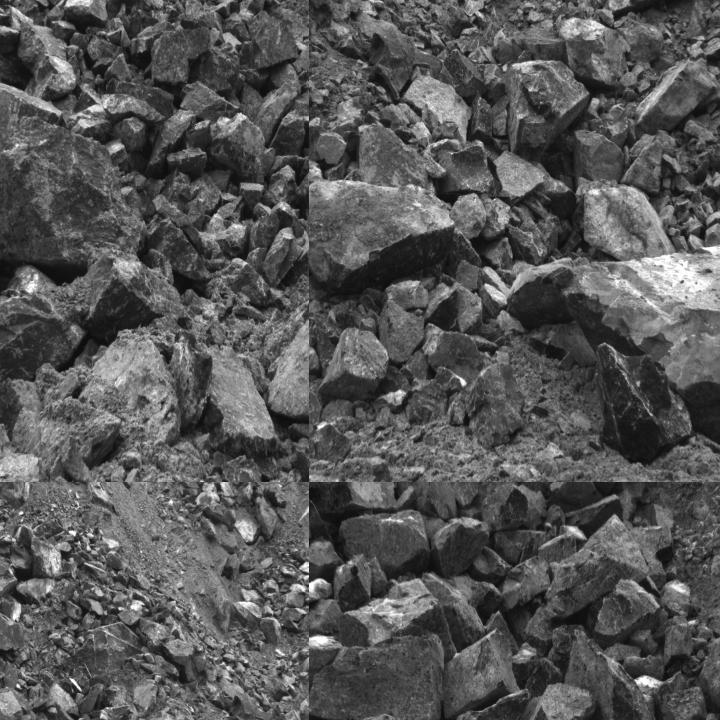stone: (562, 248, 719, 436), (0, 263, 85, 420), (309, 633, 446, 719), (545, 516, 647, 628), (339, 578, 458, 663), (64, 254, 182, 337), (206, 341, 276, 454), (442, 630, 520, 719), (339, 508, 431, 580), (459, 362, 525, 447), (559, 15, 630, 89), (586, 579, 660, 649), (17, 21, 80, 99), (206, 113, 275, 183), (401, 75, 472, 141), (143, 216, 213, 281), (168, 329, 211, 432), (68, 622, 144, 678), (150, 27, 219, 85), (424, 518, 489, 578), (369, 21, 416, 102), (146, 109, 197, 178), (0, 79, 24, 221), (407, 368, 467, 424), (495, 686, 595, 719), (500, 556, 550, 615), (248, 12, 298, 70), (254, 82, 298, 143), (180, 81, 242, 124), (194, 39, 243, 93), (416, 482, 479, 522), (449, 689, 529, 719), (481, 485, 527, 534), (269, 101, 308, 157), (0, 585, 32, 650), (441, 50, 486, 96), (587, 102, 629, 150), (309, 422, 352, 463), (331, 96, 363, 151), (700, 625, 719, 715), (101, 94, 166, 120), (659, 685, 707, 719), (130, 20, 176, 55), (507, 224, 547, 264), (454, 282, 484, 334), (619, 25, 661, 60), (64, 0, 109, 32), (109, 116, 148, 152), (167, 147, 207, 180), (32, 538, 62, 580), (263, 166, 297, 202), (9, 524, 33, 574), (194, 174, 222, 214), (249, 212, 280, 248), (13, 578, 55, 604), (86, 35, 127, 61), (216, 222, 247, 255), (0, 548, 17, 608), (0, 56, 30, 88), (78, 683, 105, 714), (162, 640, 194, 666), (294, 157, 308, 216), (73, 85, 101, 114), (684, 119, 719, 142), (309, 388, 323, 444), (457, 28, 489, 52), (538, 216, 558, 254), (237, 0, 266, 26), (278, 607, 307, 633), (105, 54, 131, 82), (0, 689, 24, 719), (230, 693, 257, 719), (326, 154, 350, 180), (260, 617, 283, 644), (0, 594, 22, 621), (274, 592, 304, 611), (50, 21, 75, 40), (118, 608, 143, 626), (702, 221, 719, 246), (61, 559, 77, 581), (145, 633, 163, 652), (39, 671, 54, 693), (702, 37, 719, 56), (708, 9, 719, 29), (713, 173, 719, 197)
